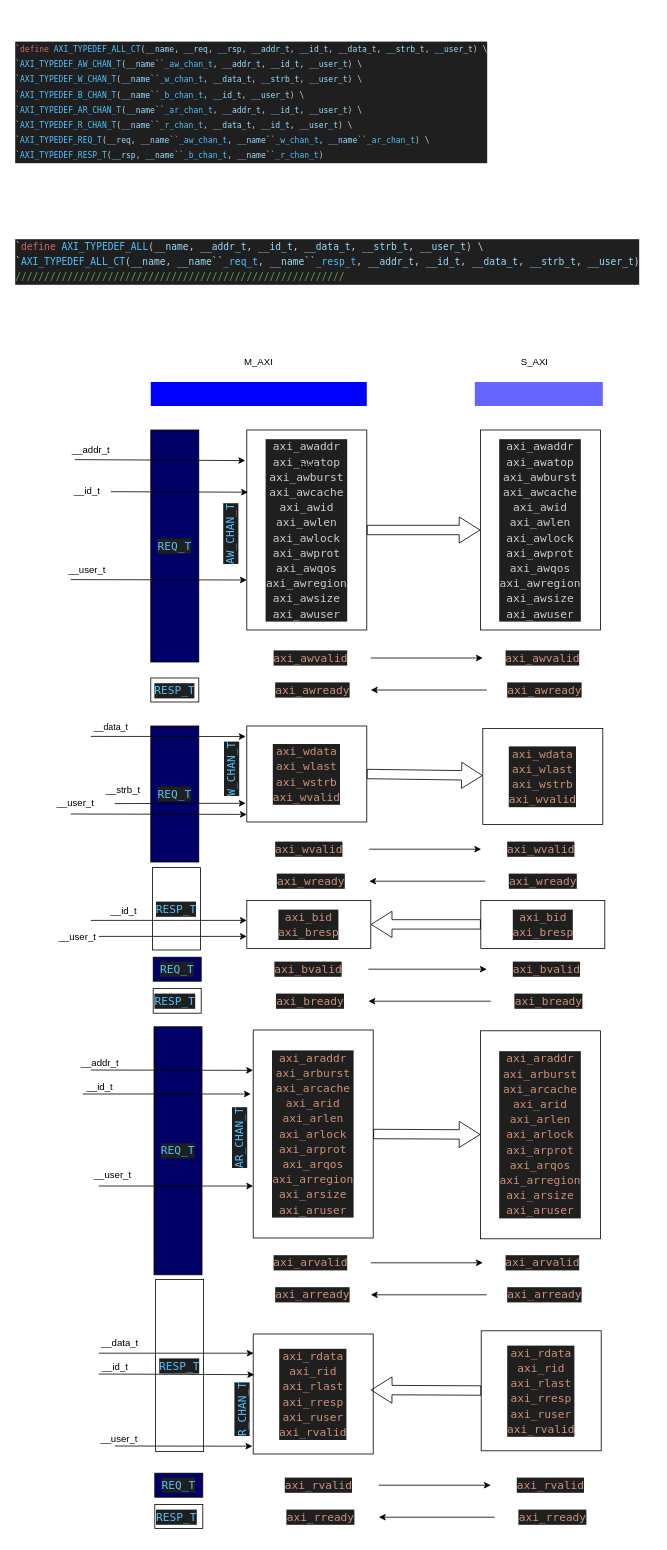
Some shapes in this 667 by 1550 pixel diagram are drawn without their labels. The shapes that lost their labels are listed below. From the top down, each one's box as (x1, y1, x2, y2) in pixels, then its label:
(150, 382, 366, 406): OUTPUT
(474, 382, 602, 406): INPUT
